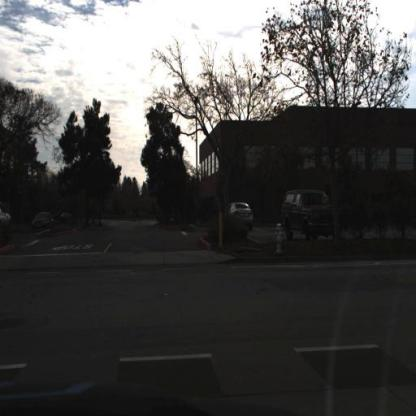car: (279, 188, 341, 240), (279, 189, 336, 242), (230, 200, 255, 234), (31, 208, 56, 233), (31, 210, 54, 235)
